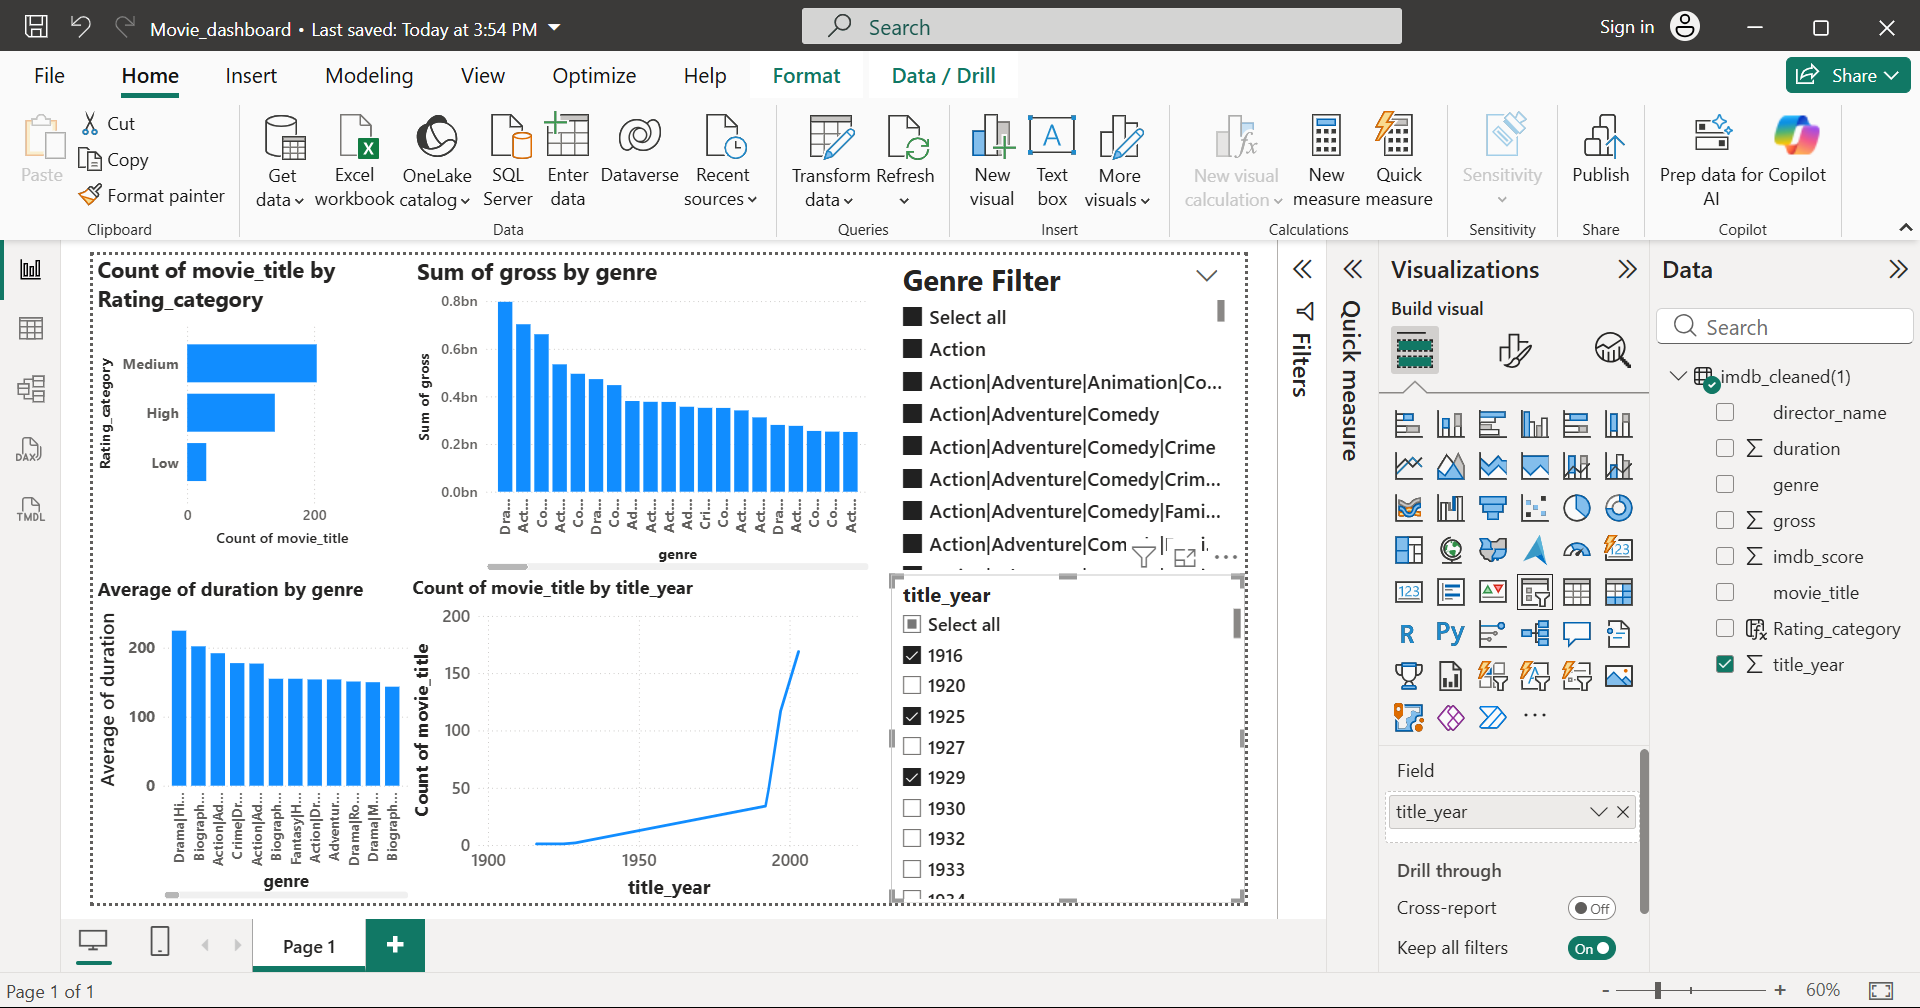

This screenshot's page, from the dashboard's own definition file:
{"tool":"powerbi","page":{"name":"Page 1","canvas":[1280,720],"ordinal":0},"visuals":[{"type":"clusteredBarChart","fields":{"Category":["imdb_cleaned(1).Rating_category"],"Y":["CountNonNull(imdb_cleaned(1).movie_title)"]},"box":[0,0,335,328.3],"z":0},{"type":"columnChart","fields":{"Category":["imdb_cleaned(1).genre"],"Y":["Sum(imdb_cleaned(1).gross)"]},"box":[355,0,511.7,355],"z":1},{"type":"clusteredColumnChart","fields":{"Category":["imdb_cleaned(1).genre"],"Y":["Avg(imdb_cleaned(1).duration)"]},"box":[0,355,355,365],"z":2},{"type":"lineChart","fields":{"Y":["CountNonNull(imdb_cleaned(1).movie_title)"],"Category":["imdb_cleaned(1).title_year"]},"box":[350,355,516.7,365],"z":3},{"type":"slicer","fields":{"Values":["imdb_cleaned(1).genre"]},"box":[887.1,0,375.7,354.3],"z":4},{"type":"slicer","fields":{"Values":["imdb_cleaned(1).title_year"]},"box":[886.7,355,393.3,365],"z":5}]}

Visuals, with their boxes on the page's 1280x720 design canvas (x1, y1, x2, y2). These are canvas units, not pixel positions in the 1920x1008 screenshot, which may show the page scaled, cropped or inside an application window:
clusteredBarChart - imdb_cleaned(1).Rating_category x CountNonNull(imdb_cleaned(1).movie_title): crop(0, 0, 335, 328)
columnChart - imdb_cleaned(1).genre x Sum(imdb_cleaned(1).gross): crop(355, 0, 867, 355)
clusteredColumnChart - imdb_cleaned(1).genre x Avg(imdb_cleaned(1).duration): crop(0, 355, 355, 720)
lineChart - CountNonNull(imdb_cleaned(1).movie_title) x imdb_cleaned(1).title_year: crop(350, 355, 867, 720)
slicer - imdb_cleaned(1).genre: crop(887, 0, 1263, 354)
slicer - imdb_cleaned(1).title_year: crop(887, 355, 1280, 720)
